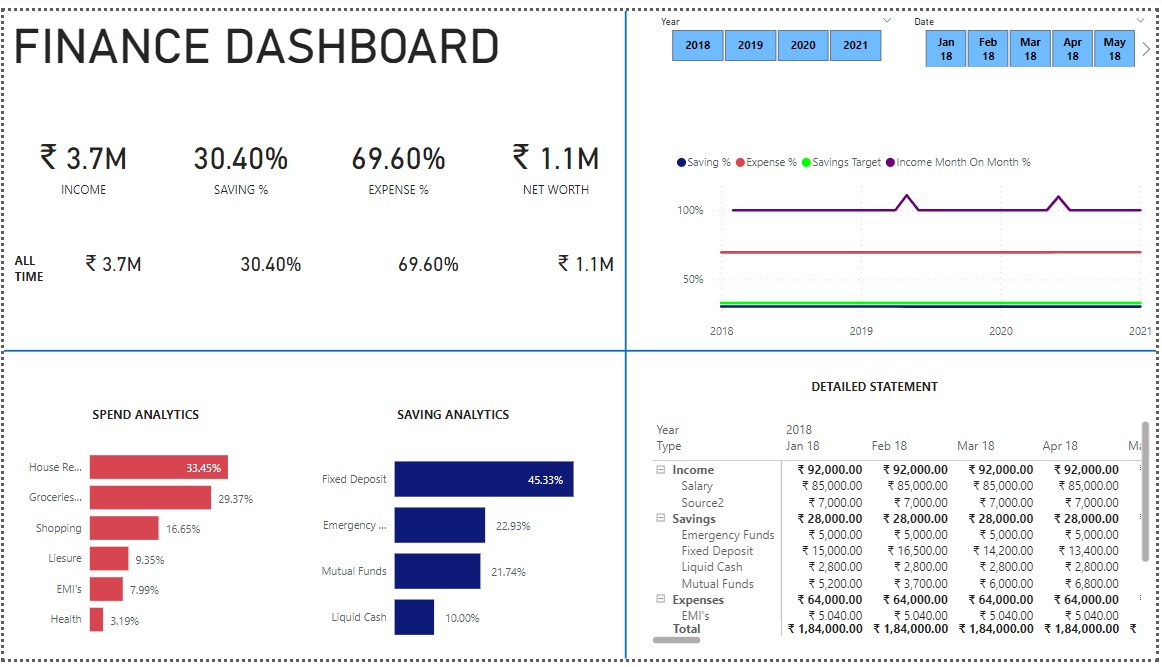

This screenshot's page, from the dashboard's own definition file:
{"tool":"powerbi","page":{"name":"Financial Dashboard","canvas":[1280,720],"ordinal":0},"visuals":[{"type":"card","fields":{"Values":["Key Measures.Total Income"]},"box":[0.6,80,175,161.7],"z":0},{"type":"card","fields":{"Values":["Key Measures.Saving %"]},"box":[175.6,80,175,161.7],"z":1000},{"type":"card","fields":{"Values":["Key Measures.Expense %"]},"box":[350.6,80,175,161.7],"z":2000},{"type":"card","fields":{"Values":["Key Measures.Total Saving"]},"box":[525.6,80,175,161.7],"z":3000},{"type":"card","fields":{"Values":["Key Measures.Total Income"]},"box":[33.9,200,175,161.7],"z":4000},{"type":"card","fields":{"Values":["Key Measures.Saving %"]},"box":[208.9,200,175,161.7],"z":5000},{"type":"card","fields":{"Values":["Key Measures.Expense %"]},"box":[383.9,200,175,161.7],"z":6000},{"type":"card","fields":{"Values":["Key Measures.Total Saving"]},"box":[558.9,200,175,161.7],"z":7000},{"type":"textbox","box":[6.7,261.7,53.3,71.7],"z":8000},{"type":"textbox","box":[10.6,183.3,156.7,33.3],"z":9000},{"type":"textbox","box":[185.6,183.3,156.7,33.3],"z":10000},{"type":"textbox","box":[360.6,183.3,156.7,33.3],"z":11000},{"type":"clusteredBarChart","fields":{"Category":["FinData.Component"],"Y":["Key Measures.Total Expnese"]},"box":[10,466.7,286.7,241.7],"z":12000},{"type":"slicer","fields":{"Values":["FinData.Date"]},"box":[998,0,282,62],"z":13000},{"type":"textbox","box":[535.6,183.3,156.7,33.3],"z":14000},{"type":"card","fields":{"Values":["Key Measures.Title"]},"box":[0,0,560,63.3],"z":15000},{"type":"slicer","fields":{"Values":["FinData.Year"]},"box":[716,0,282,62],"z":16000},{"type":"clusteredBarChart","fields":{"Category":["FinData.Component"],"Y":["Key Measures.Total Saving"]},"box":[331.7,466.7,355,253.3],"z":17000},{"type":"textbox","box":[0,433.3,315,33.3],"z":18000},{"type":"textbox","box":[341.7,433.3,315,33.3],"z":19000},{"type":"shape","box":[0,355,1280,45],"z":20000},{"type":"lineChart","fields":{"Y":["Key Measures.Saving %","Key Measures.Expense %","Key Measures.Savings Target","Key Measures.Income Month On Month %"],"Category":["FinData.Date"]},"box":[741.4,148.6,538.6,225.7],"z":21000},{"type":"pivotTable","fields":{"Values":["Key Measures.Values"],"Columns":["FinData.Year","FinData.Date"],"Rows":["Type.Type","FinData.Component"]},"box":[715.7,450,562.9,258.6],"z":22000},{"type":"textbox","box":[827.1,401.4,281.4,31.4],"z":23000},{"type":"shape","box":[680.4,0,21.6,719.6],"z":23001}]}

Visuals, with their boxes in screenshot pixels (x1, y1, x2, y2), scaled from the page's 1280x720 canvas onto the 1162x667 screenshot:
card - Key Measures.Total Income: 1/74/159/224
card - Key Measures.Saving %: 159/74/318/224
card - Key Measures.Expense %: 318/74/477/224
card - Key Measures.Total Saving: 477/74/636/224
card - Key Measures.Total Income: 31/185/190/335
card - Key Measures.Saving %: 190/185/349/335
card - Key Measures.Expense %: 349/185/507/335
card - Key Measures.Total Saving: 507/185/666/335
textbox: 6/242/54/309
textbox: 10/170/152/201
textbox: 168/170/311/201
textbox: 327/170/470/201
clusteredBarChart - FinData.Component x Key Measures.Total Expnese: 9/432/269/656
slicer - FinData.Date: 906/0/1161/57
textbox: 486/170/628/201
card - Key Measures.Title: 0/0/508/59
slicer - FinData.Year: 650/0/906/57
clusteredBarChart - FinData.Component x Key Measures.Total Saving: 301/432/623/666
textbox: 0/401/286/432
textbox: 310/401/596/432
shape: 0/329/1161/371
lineChart - Key Measures.Saving % x Key Measures.Expense %: 673/138/1161/347
pivotTable - Key Measures.Values x FinData.Year: 650/417/1161/656
textbox: 751/372/1006/401
shape: 618/0/637/666
